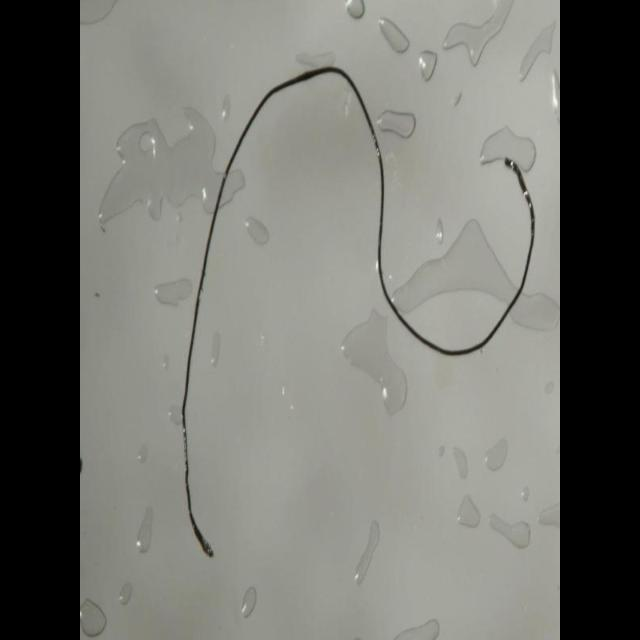Fibre: (181, 65, 543, 568)
